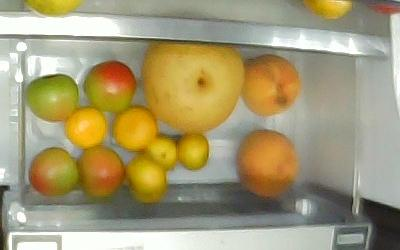peach: (234, 127, 298, 197), (239, 52, 300, 117)
pear: (140, 46, 245, 132)
tangerine: (122, 153, 167, 203), (111, 104, 157, 151), (63, 105, 106, 148), (175, 131, 209, 170), (143, 133, 177, 171)
tomato: (82, 59, 136, 112), (74, 143, 125, 198), (24, 72, 78, 122), (27, 145, 79, 196)
